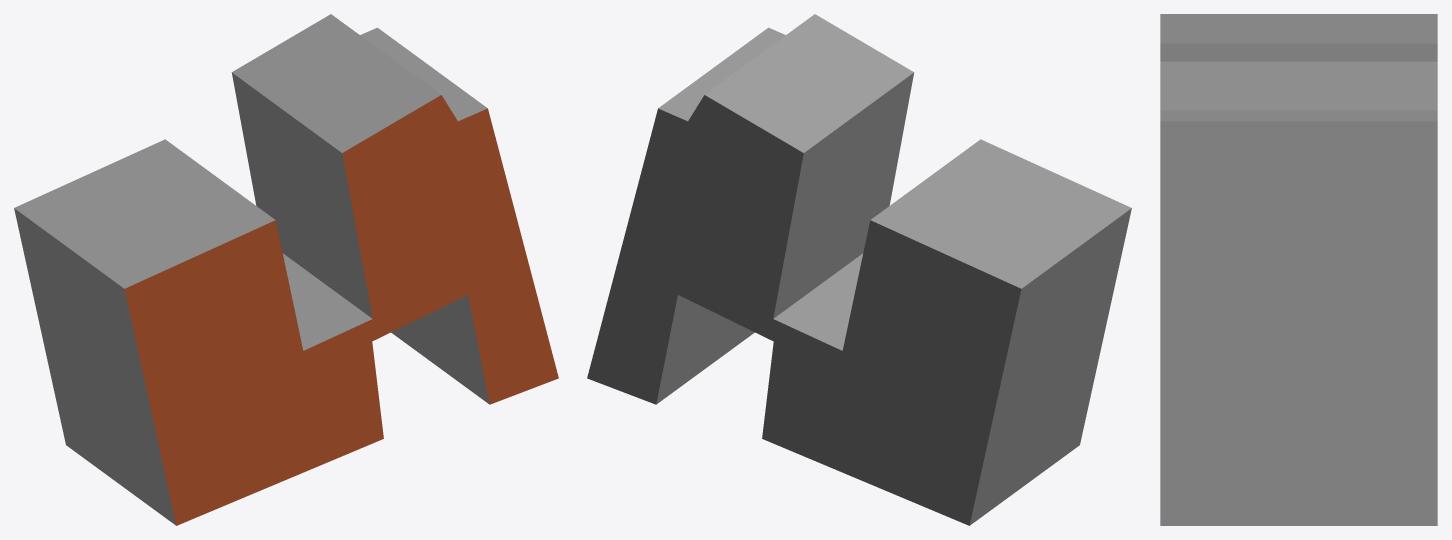
The model's file is construction_4390_assumed_A_Casa_h6m.obj.
The picture shows the model from 3 angles, left to right: view 1: azimuth 30°, elevation 25°; view 2: azimuth 150°, elevation 25°; view 3: azimuth 270°, elevation 25°; orthographic projection. The views are drawn at different scales.
Parts seen in each view (by area): view 1: construction_4390_assumed_A_Casa; view 2: construction_4390_assumed_A_Casa; view 3: construction_4390_assumed_A_Casa.
Part boxes in pixels (x1=…): construction_4390_assumed_A_Casa: x1=14, y1=14, x2=558, y2=525; construction_4390_assumed_A_Casa: x1=587, y1=14, x2=1131, y2=525; construction_4390_assumed_A_Casa: x1=1160, y1=14, x2=1437, y2=525.
Size of the model in its own units: 13.63 by 10.98 by 6.
